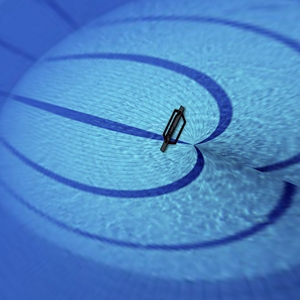submarine: (154, 89, 197, 171)
